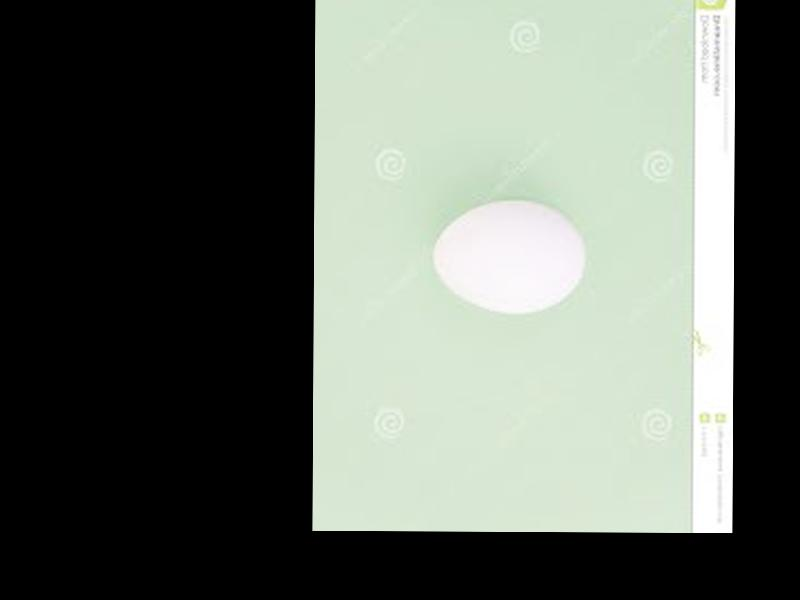Eggs: (434, 198, 585, 312)
